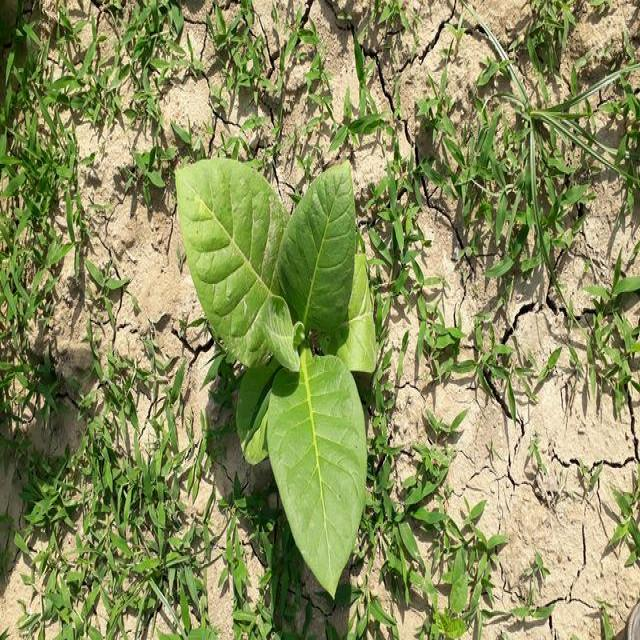crop: (165, 136, 406, 599)
